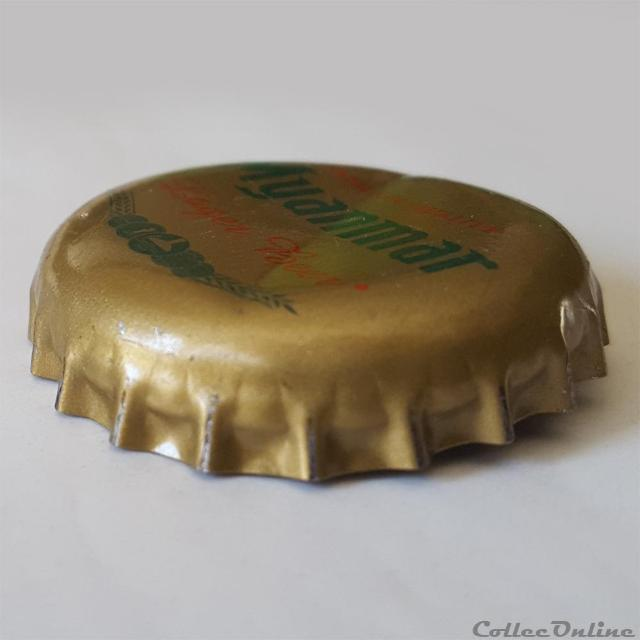Metal: (22, 156, 616, 484)
